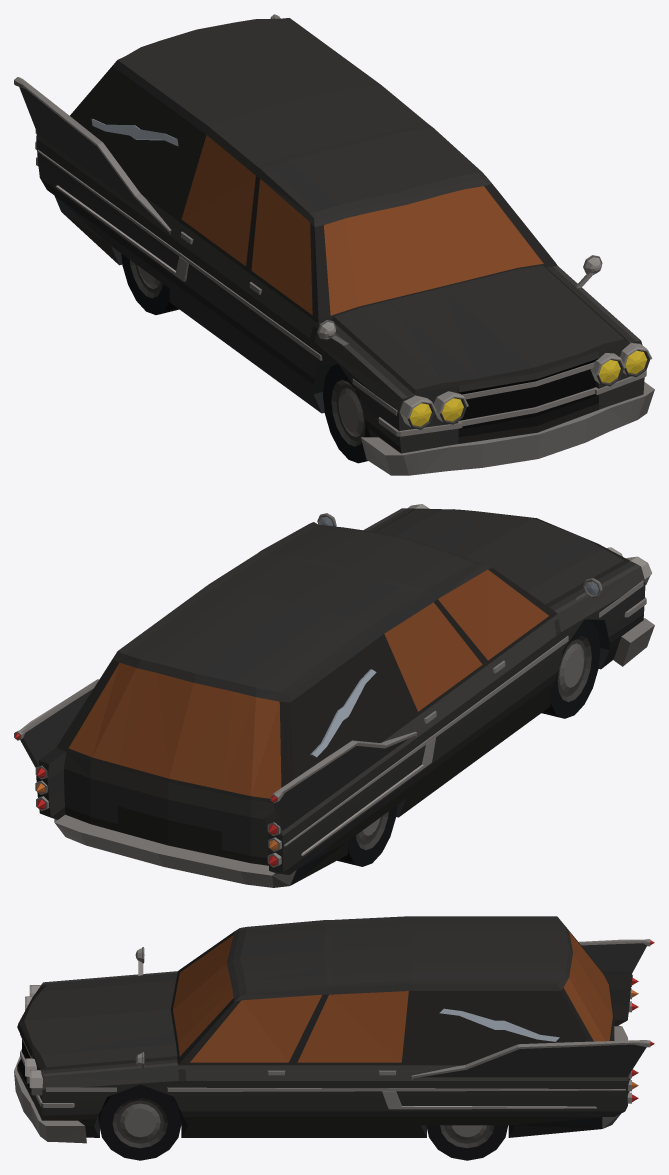
The model's file is 1963_cadillac_hearse.glb.
The picture shows the model from 3 angles, top to bottom: view 1: azimuth 30°, elevation 25°; view 2: azimuth 150°, elevation 25°; view 3: azimuth 270°, elevation 25°; orthographic projection. The views are drawn at different scales.
Parts seen in each view (by area): view 1: Body, WheelFR, WheelBR; view 2: Body, WheelFR, WheelBR; view 3: Body, WheelFL, WheelBl.
Part boxes in pixels (x1,y1,x2,y2): Body: [14, 14, 654, 475]; WheelFR: [323, 363, 370, 463]; WheelBR: [121, 253, 179, 314]; Body: [14, 504, 654, 887]; WheelFR: [541, 619, 600, 718]; WheelBR: [337, 805, 397, 866]; Body: [14, 916, 654, 1143]; WheelFL: [98, 1084, 181, 1160]; WheelBl: [426, 1125, 507, 1160].
Size of the model in its own units: 2.08 by 1.45 by 5.02.
Materials: 2 (2 with a texture image).
